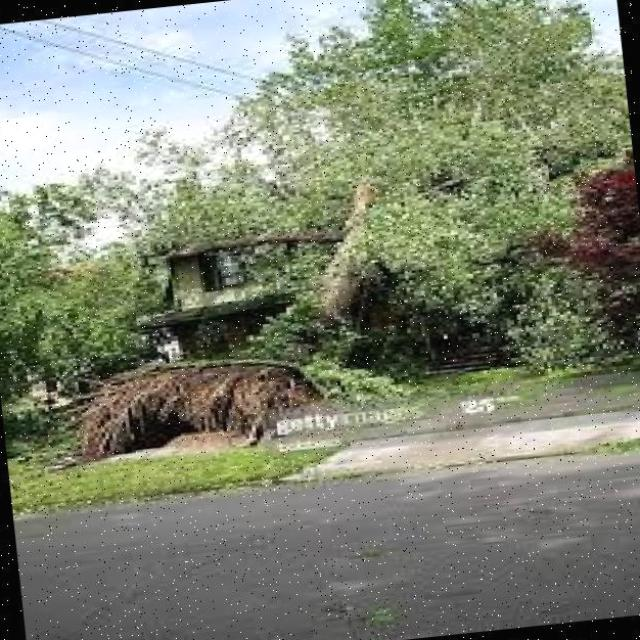fallen_object: (3, 41, 620, 467)
